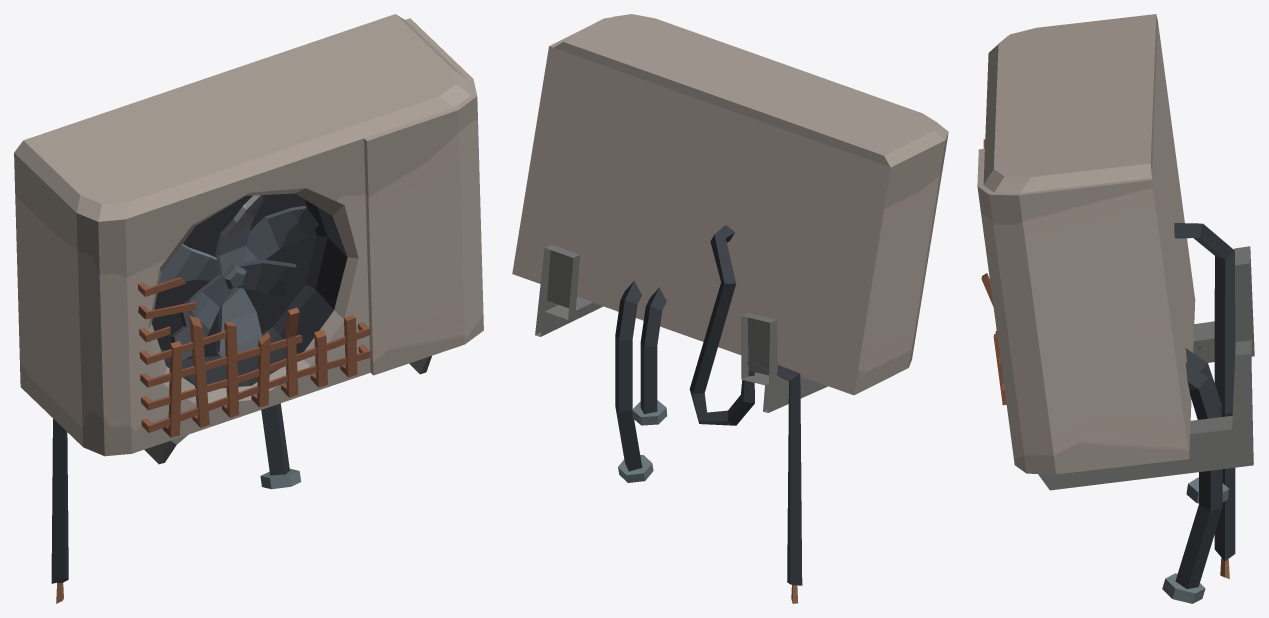
The model's file is SM_Air_Conditioner.fbx.
The picture shows the model from 3 angles, left to right: view 1: azimuth 30°, elevation 25°; view 2: azimuth 150°, elevation 25°; view 3: azimuth 270°, elevation 25°; orthographic projection. The views are drawn at different scales.
Visible parts, largest first — view 1: SM_Air_Conditioner; view 2: SM_Air_Conditioner; view 3: SM_Air_Conditioner.
Boxes of the visible parts, box(x1,y1,x2,y2) form: SM_Air_Conditioner: box(14, 14, 483, 603); SM_Air_Conditioner: box(512, 14, 948, 603); SM_Air_Conditioner: box(977, 14, 1254, 603).
Bounding box in the file's own units: 96.98 × 120 × 52.99.
